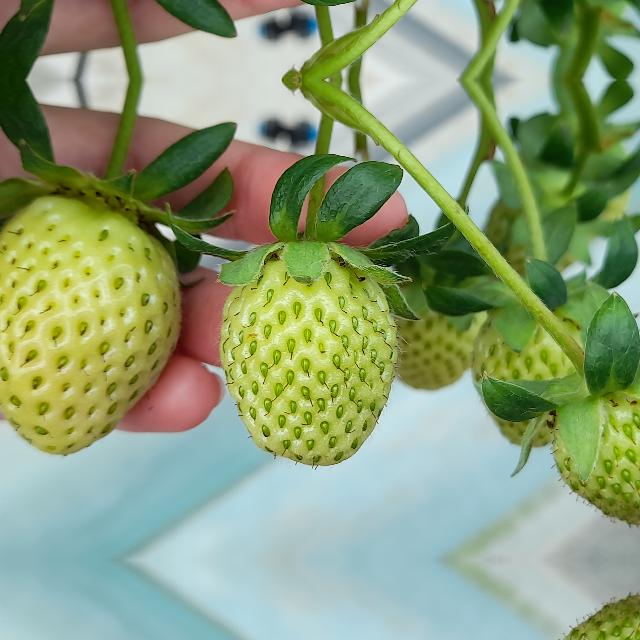Health_25: (2, 186, 180, 454), (219, 257, 399, 465), (476, 290, 616, 444), (552, 340, 638, 530), (381, 268, 483, 392), (551, 590, 638, 640)
